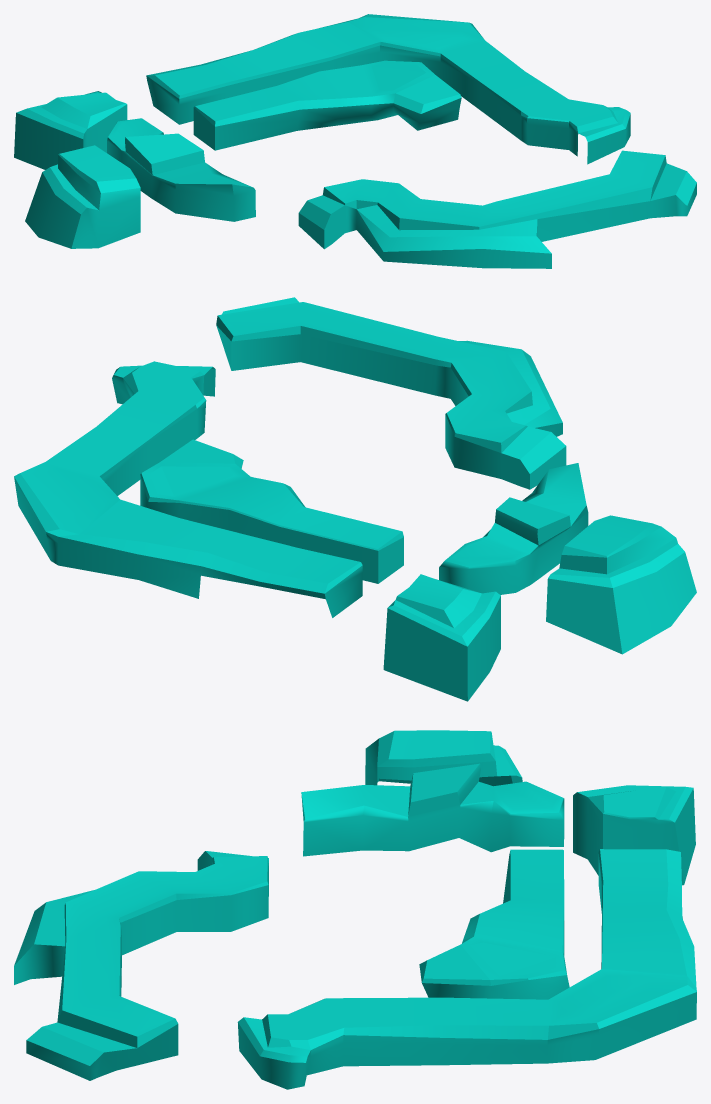
Rendered from SM_IsleLVL1TowersAndFactories_TD_01.fbx.
The picture shows the model from 3 angles, top to bottom: view 1: azimuth 30°, elevation 25°; view 2: azimuth 150°, elevation 25°; view 3: azimuth 270°, elevation 25°; orthographic projection. The views are drawn at different scales.
Visible parts, largest first — view 1: TowersAndFactorys; view 2: TowersAndFactorys; view 3: TowersAndFactorys.
Boxes of the visible parts, x1,y1,x2,y2 form: TowersAndFactorys: (14, 14, 696, 268); TowersAndFactorys: (14, 297, 696, 701); TowersAndFactorys: (14, 730, 696, 1089).
Bounding box in the file's own units: 4198 × 580 × 3698.
